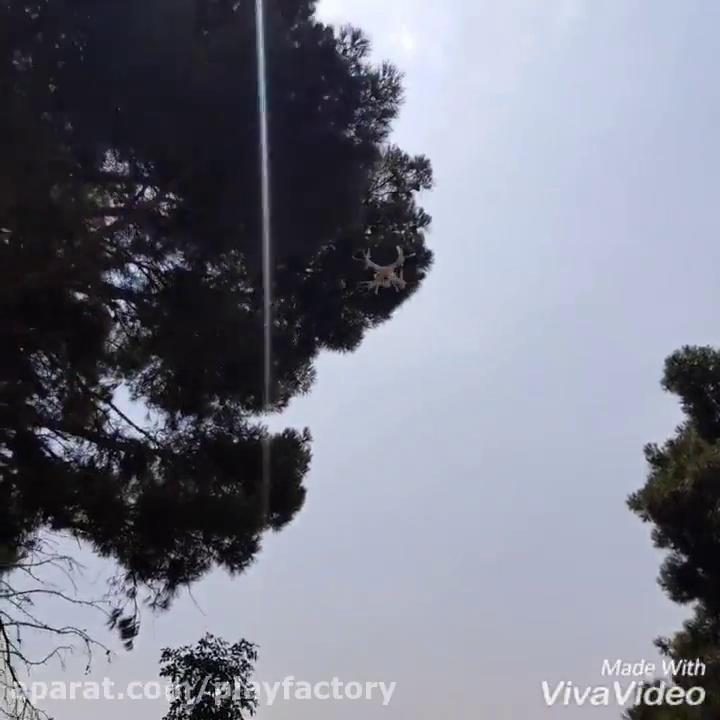drone: (348, 241, 418, 297)
